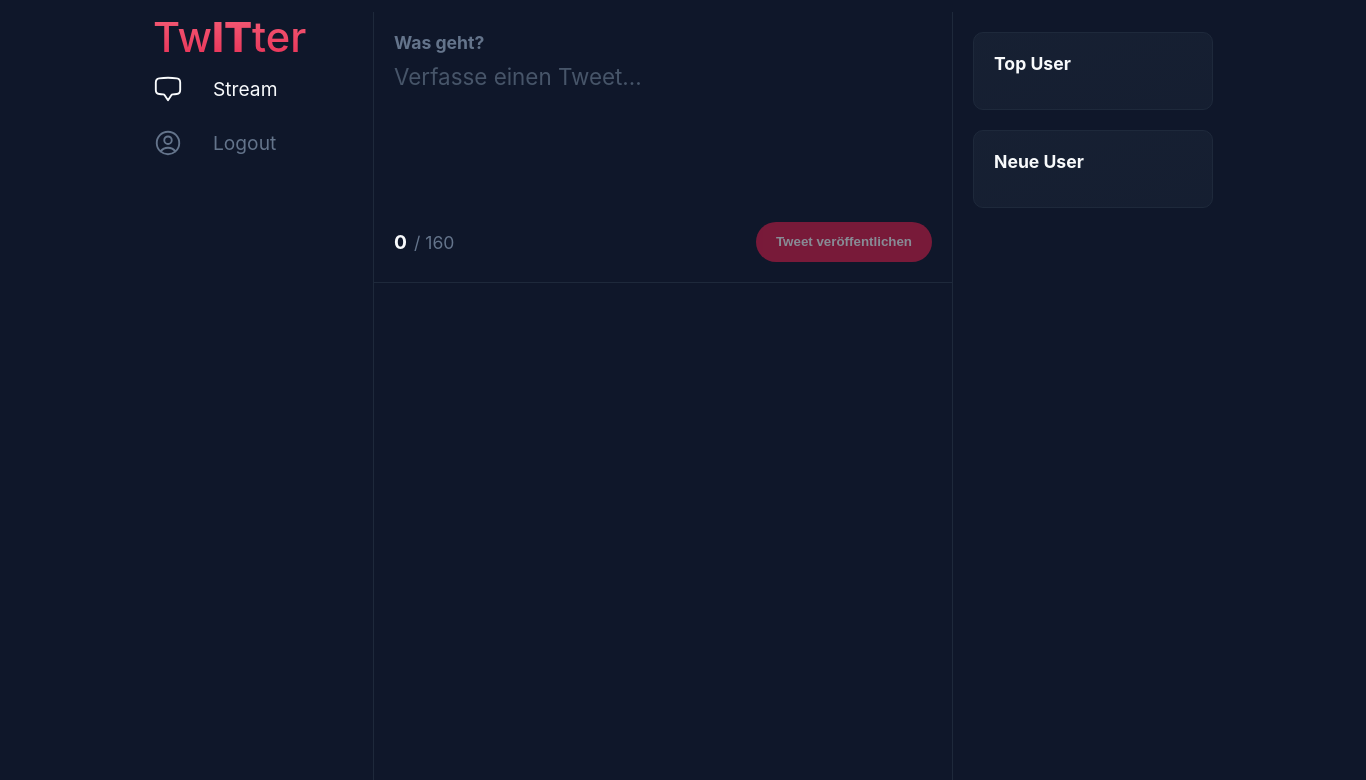
D1 › Die Textlänge wird dynamisch berechnet
Type "Hallo Welt" into the text box with class "composer__textarea" at (663, 128), box [374,58,952,198]
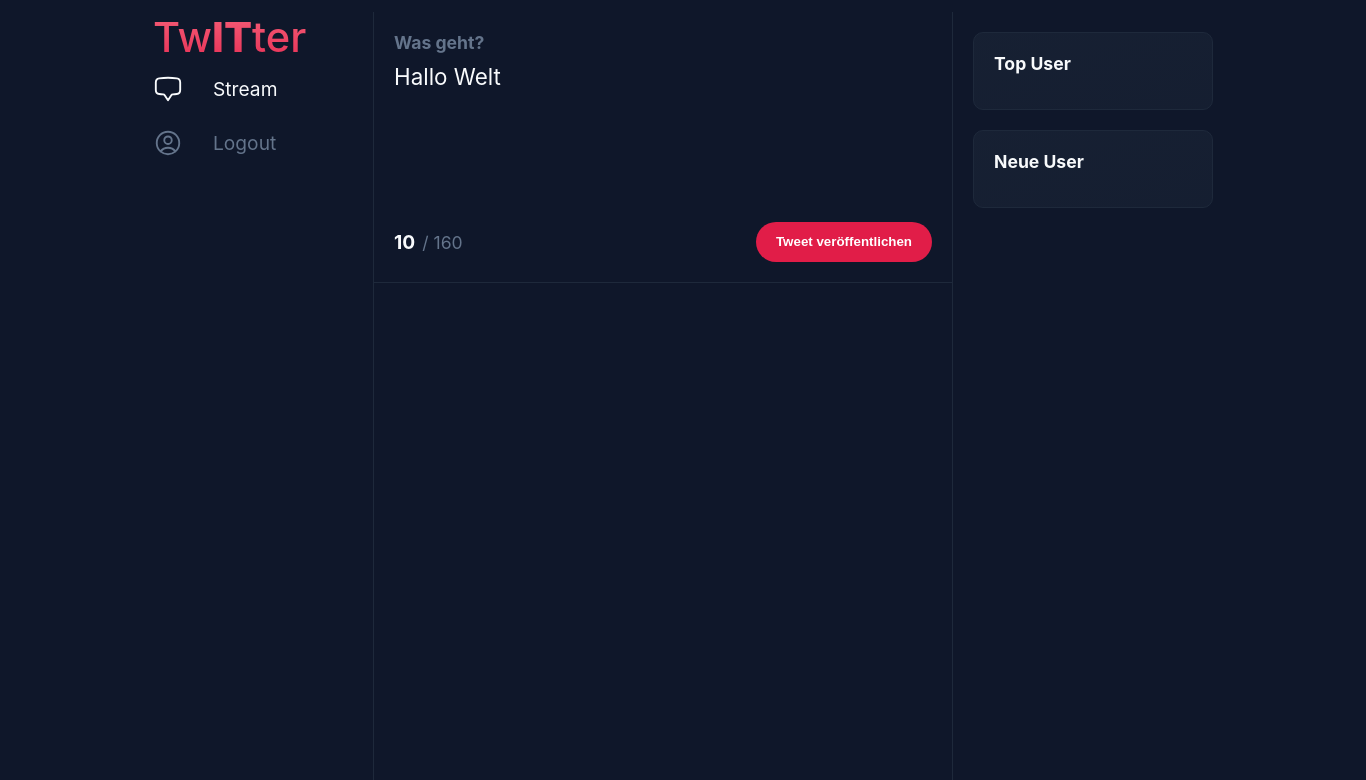
Expected: the text with class "stats__counter" reads "10", [394,230,415,254]
